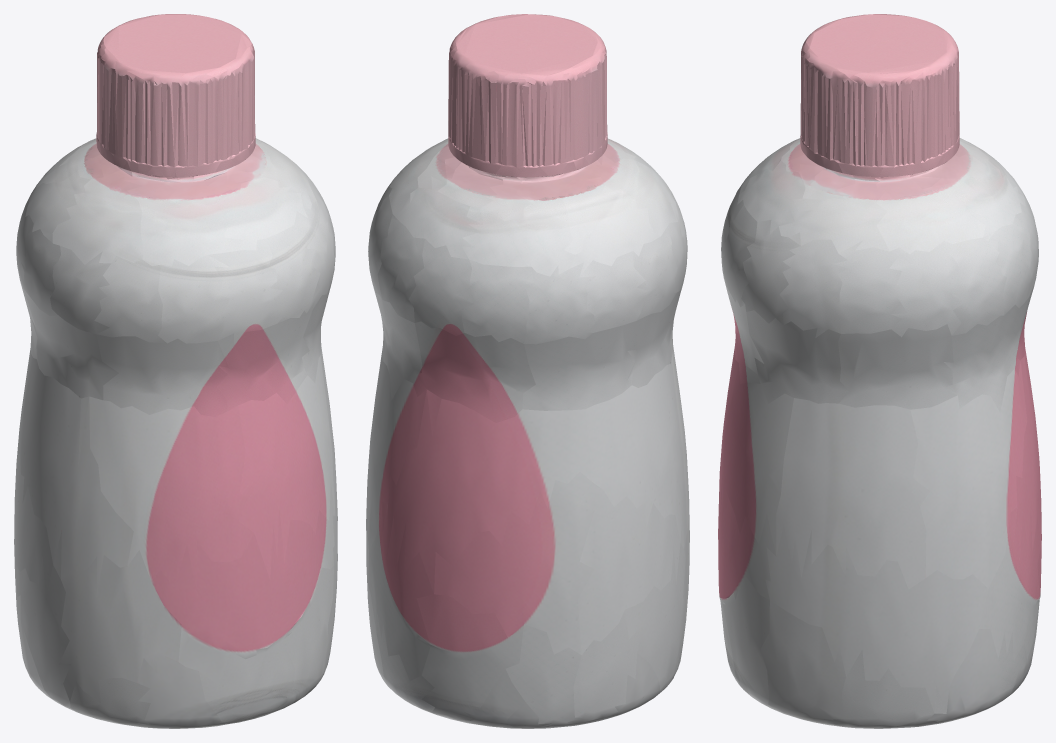
File: prop_oil_bottle.glb
The picture shows the model from 3 angles, left to right: view 1: azimuth 30°, elevation 25°; view 2: azimuth 150°, elevation 25°; view 3: azimuth 270°, elevation 25°; orthographic projection.
Visible parts, largest first — view 1: Mesh_0; view 2: Mesh_0; view 3: Mesh_0.
Part boxes in pixels (x1,y1,x2,y2): Mesh_0: (14,14,337,728); Mesh_0: (366,14,689,728); Mesh_0: (718,14,1041,728).
Bounding box in the file's own units: 0.8922 × 1.9 × 0.8929.
Materials: 1 (1 with a texture image).
